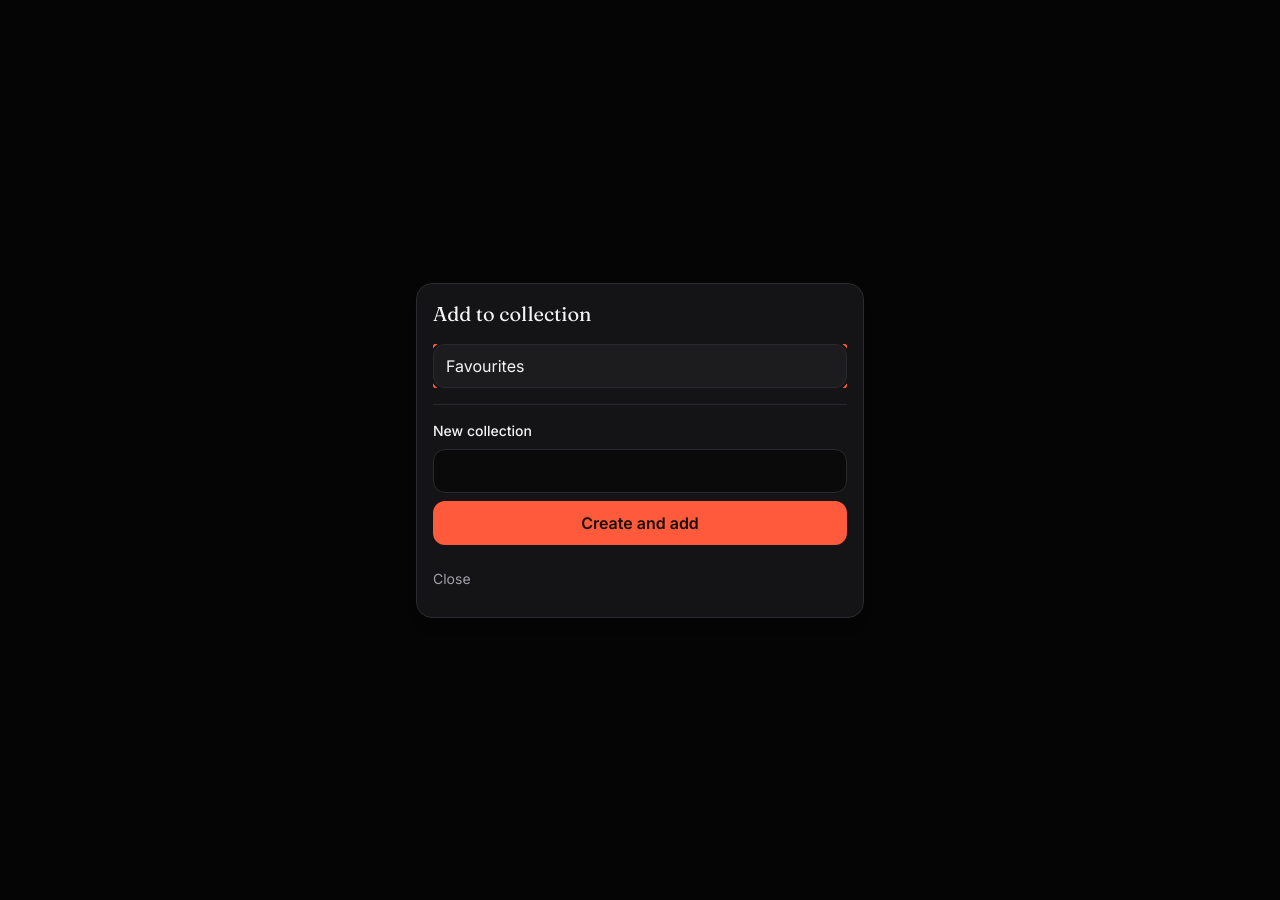
Scenario: AddToCollectionModal › shows API error state
The image size is (1280, 900).
Click the button "Favourites". click: point(485, 366)
box: left=433, top=344, right=847, bottom=388
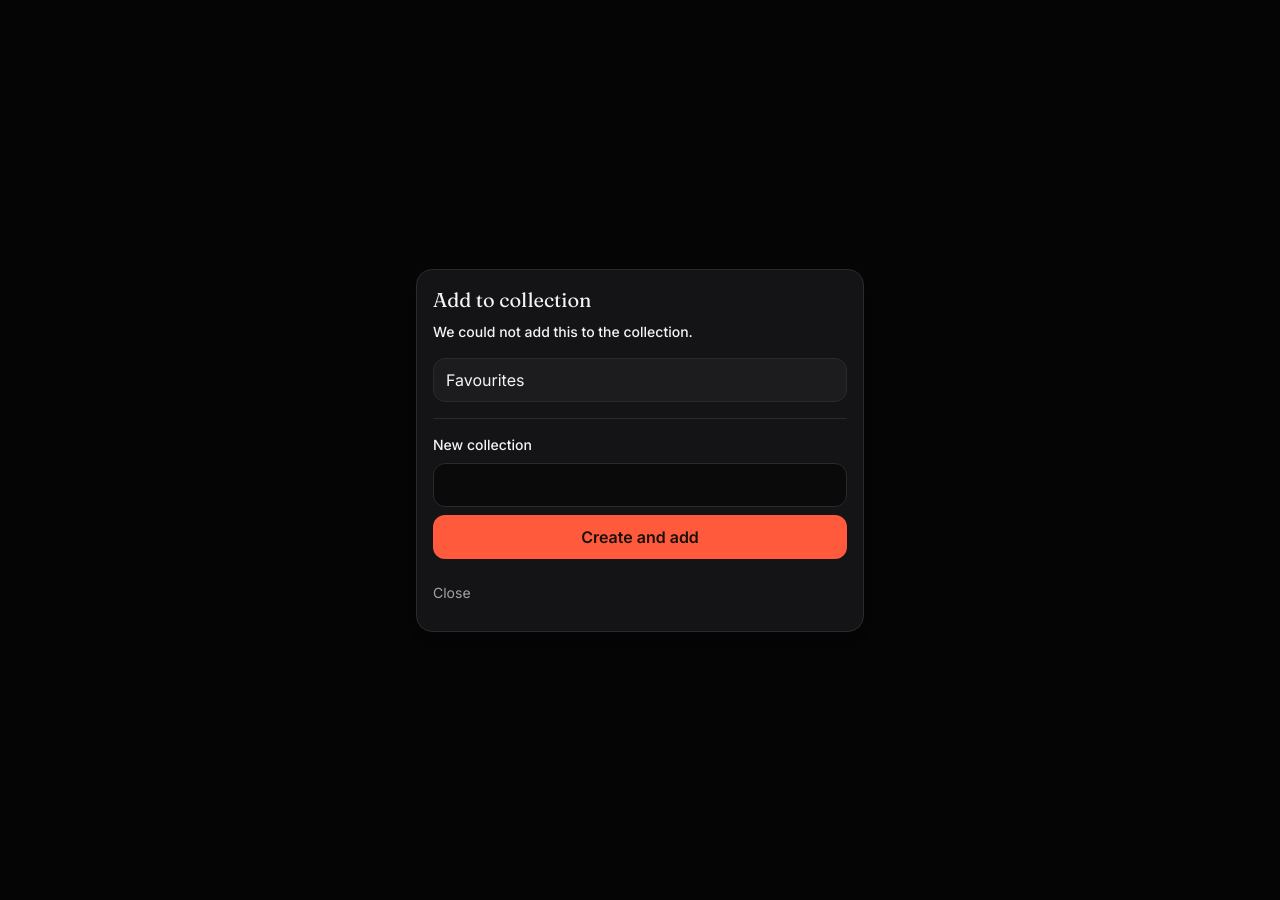
Expected: the text "We could not add this to the collection." is shown, left=433, top=322, right=693, bottom=340
